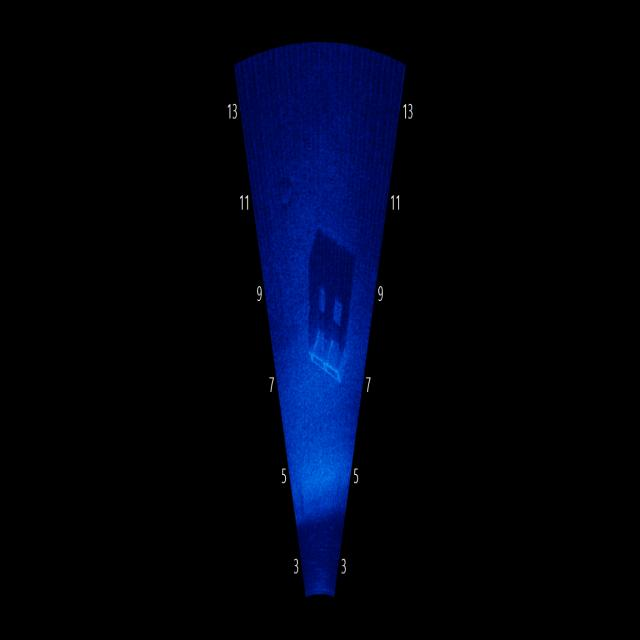square: (305, 319, 357, 390)
